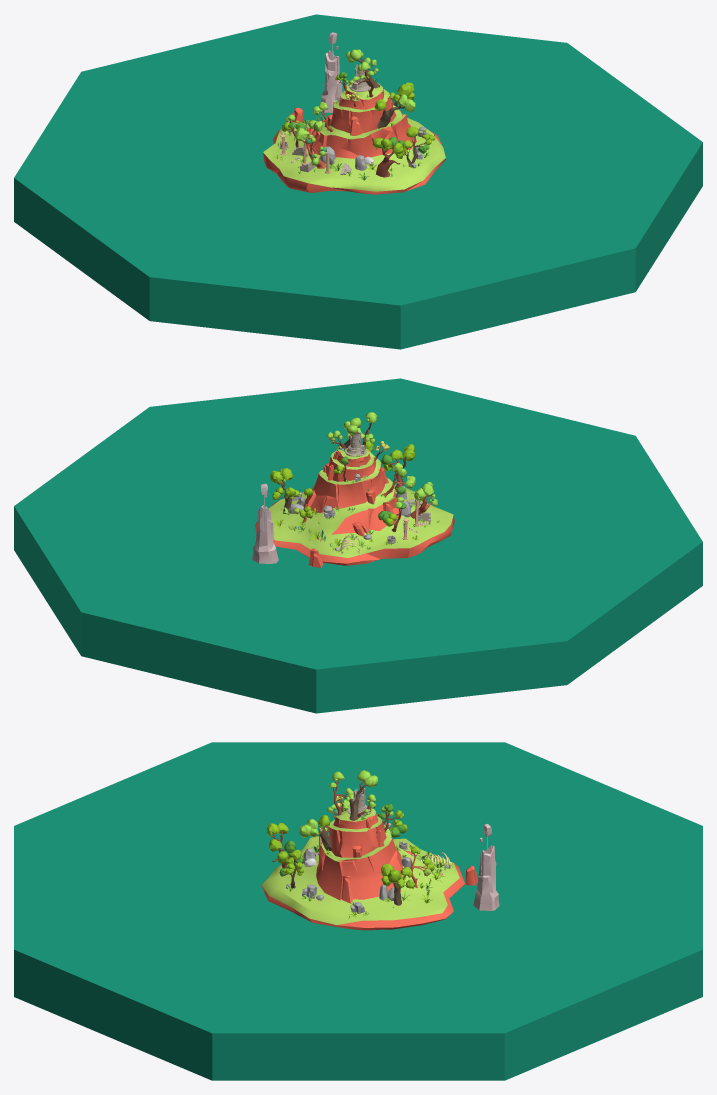
The model's file is islande.fbx.
3 views of the same model, one above another, from view 1: azimuth 30°, elevation 25°; view 2: azimuth 150°, elevation 25°; view 3: azimuth 270°, elevation 25° (orthographic). The views are drawn at different scales.
Parts seen in each view (by area): view 1: yet, Plane.014, Cylinder.009; view 2: yet, Plane.014, Cylinder.009; view 3: yet, Plane.014, Cylinder.009.
Boxes of the visible parts, x1,y1,x2,y2 form: yet: (14,14,702,349); Plane.014: (263,83,445,194); Cylinder.009: (321,50,342,112); yet: (14,378,702,713); Plane.014: (255,446,454,565); Cylinder.009: (252,505,278,563); yet: (14,742,702,1080); Plane.014: (261,808,464,930); Cylinder.009: (473,845,499,910).
Size of the model in its own units: 47873 by 12603 by 47873.
